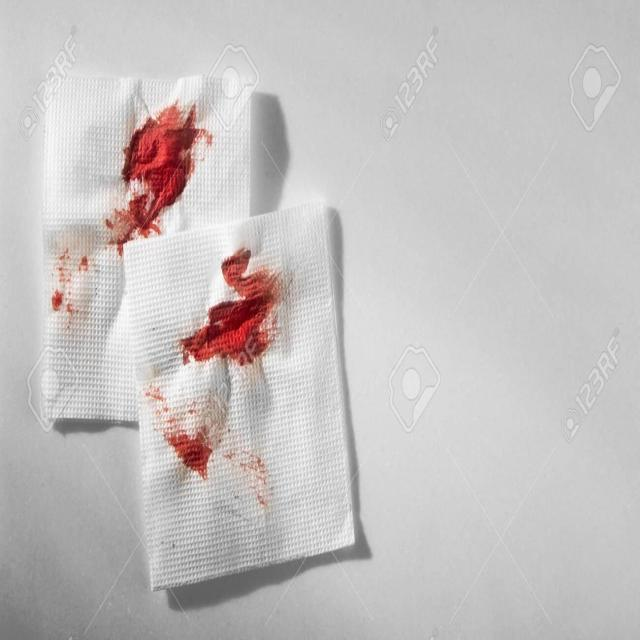flood: (116, 105, 198, 222), (184, 294, 276, 366)
